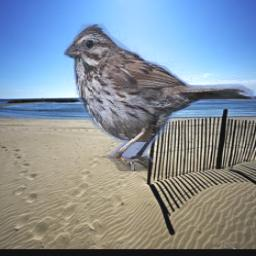Sparrow: (64, 19, 256, 171)
